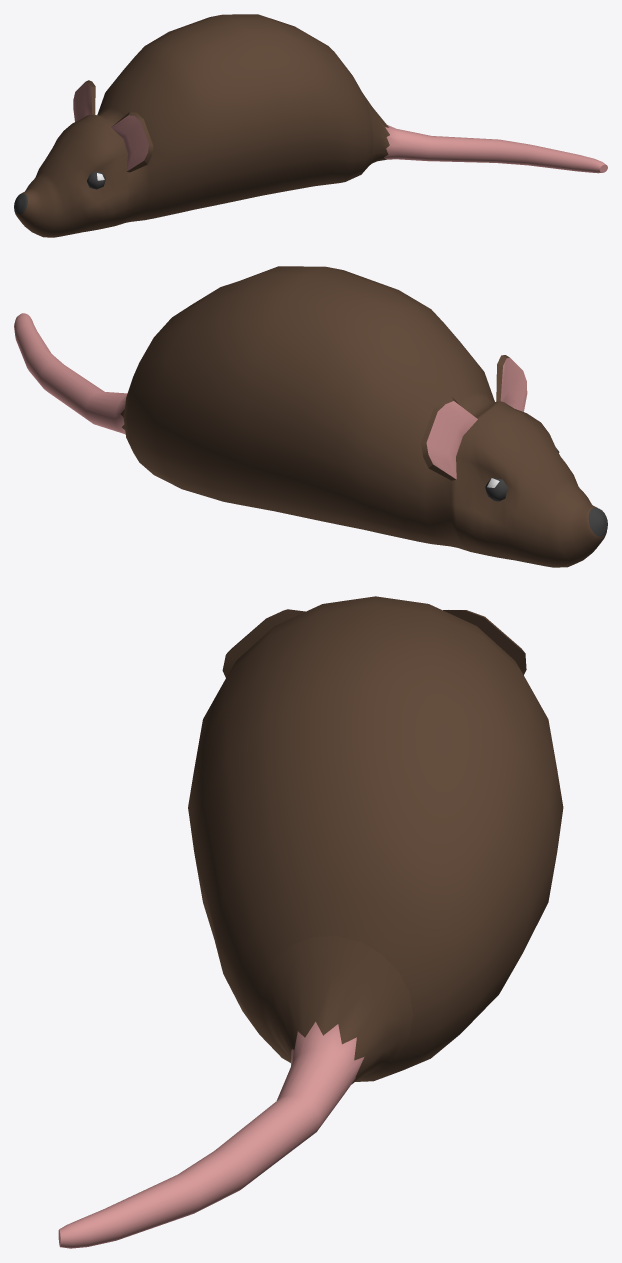
File: rat.fbx
3 views of the same model, one above another, from view 1: azimuth 30°, elevation 25°; view 2: azimuth 150°, elevation 25°; view 3: azimuth 270°, elevation 25° (orthographic). The views are drawn at different scales.
Visible parts, largest first — view 1: ratBody; view 2: ratBody, ratEye2; view 3: ratBody.
Boxes of the visible parts, x1,y1,x2,y2 form: ratBody: [14, 14, 607, 237]; ratBody: [14, 266, 607, 567]; ratEye2: [485, 478, 507, 501]; ratBody: [58, 596, 563, 1248].
Bounding box in the file's own units: 90.02 × 29.22 × 38.38.
